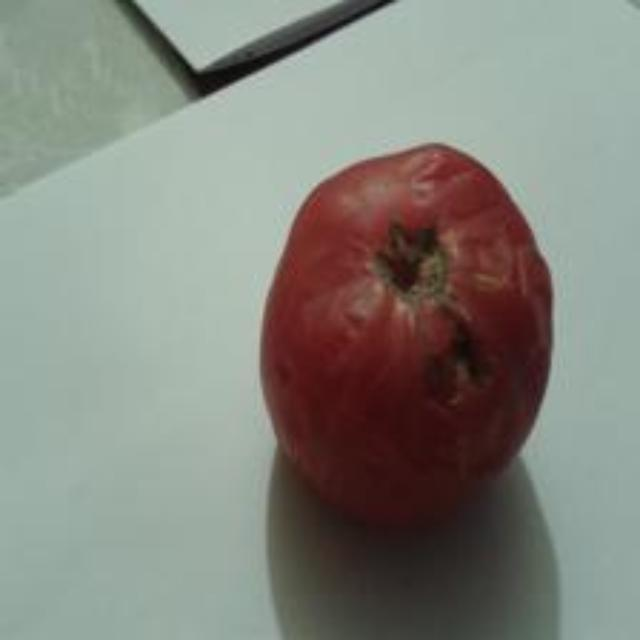defect: (261, 140, 559, 528)
